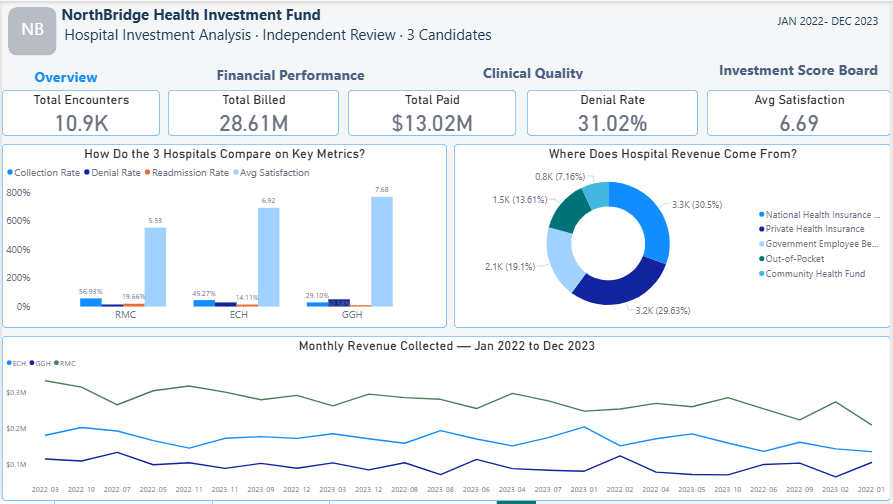

The page's visual inventory and layout, read from the dashboard file:
{"tool":"powerbi","page":{"name":"Overview","canvas":[1920,1080],"ordinal":0},"visuals":[{"type":"textbox","box":[122.2,0,1142.6,54],"z":0,"group":"g1"},{"type":"shape","box":[0,6.5,1920.2,118.8],"z":0},{"type":"shape","box":[12,12,105,105],"z":1000},{"type":"textbox","box":[128.3,43.2,959,73.4],"z":1000,"group":"g1"},{"type":"textbox","box":[1285.9,5.8,615,110.9],"z":2000,"group":"g1"},{"type":"textbox","box":[28.8,14.4,76.3,80.6],"z":2000},{"type":"group","id":"g1","title":"Group 1","box":[122.2,0,1778.6,116.6],"z":3000},{"type":"shape","box":[0,125.3,1920.2,54],"z":4000},{"type":"actionButton","box":[436.3,133.9,373.7,41],"z":5000},{"type":"actionButton","box":[991.4,129.6,311,38.9],"z":6000},{"type":"actionButton","box":[1520.6,123.1,399.6,49.7],"z":7000},{"type":"card","title":"Total Encounters","fields":{"Values":["Measure.Total Encounters"]},"box":[0,192.2,341.3,99.4],"z":9000},{"type":"card","title":"Total Billed","fields":{"Values":["Measure.Total Billed"]},"box":[358.6,192.2,369.4,99.4],"z":10000},{"type":"card","title":"Total Paid","fields":{"Values":["Measure.Total Paid"]},"box":[747.4,192.2,362.9,99.4],"z":11000},{"type":"card","title":"Denial Rate ","fields":{"Values":["Measure.Denial Rate"]},"box":[1134,192.2,369.4,99.4],"z":12000},{"type":"card","title":"Avg Satisfaction","fields":{"Values":["Measure.Avg Satisfaction"]},"box":[1522.8,192.2,397.4,99.4],"z":13000},{"type":"clusteredColumnChart","title":"How Do the 3 Hospitals Compare on Key Metrics?","fields":{"Category":["combined_hospitals_clean.hospital_code"],"Y":["Measure.Collection Rate","Measure.Denial Rate","Measure.Readmission Rate","Measure.Avg Satisfaction"]},"box":[0,308.9,961.2,397.4],"z":14000},{"type":"donutChart","title":"Where Does Hospital Revenue Come From?","fields":{"Category":["combined_hospitals_clean.payer_type"],"Y":["Measure.Total Encounters"]},"box":[976.3,308.9,943.9,397.4],"z":15000},{"type":"lineChart","title":"Monthly Revenue Collected — Jan 2022 to Dec 2023","fields":{"Category":["dim_date.Year-Month"],"Y":["Measure.Total Paid"],"Series":["combined_hospitals_clean.hospital_code"]},"box":[0,723.6,1920.2,356.4],"z":16000},{"type":"actionButton","box":[13,138.2,250.6,41],"z":17000}]}

Visuals, with their boxes in screenshot pixels (x1, y1, x2, y2), scaled from the page's 1920x1080 canvas onto the 893x504 screenshot:
textbox: region(57, 0, 588, 25)
shape: region(0, 3, 892, 58)
shape: region(6, 6, 54, 55)
textbox: region(60, 20, 506, 54)
textbox: region(598, 3, 884, 54)
textbox: region(13, 7, 49, 44)
"Group 1" group: region(57, 0, 884, 54)
shape: region(0, 58, 892, 84)
actionButton: region(203, 62, 377, 82)
actionButton: region(461, 60, 606, 79)
actionButton: region(707, 57, 892, 81)
"Total Encounters" card: region(0, 90, 159, 136)
"Total Billed" card: region(167, 90, 339, 136)
"Total Paid" card: region(348, 90, 516, 136)
"Denial Rate " card: region(527, 90, 699, 136)
"Avg Satisfaction" card: region(708, 90, 892, 136)
"How Do the 3 Hospitals Compare on Key Metrics?" clusteredColumnChart: region(0, 144, 447, 330)
"Where Does Hospital Revenue Come From?" donutChart: region(454, 144, 892, 330)
"Monthly Revenue Collected — Jan 2022 to Dec 2023" lineChart: region(0, 338, 892, 503)
actionButton: region(6, 64, 123, 84)
